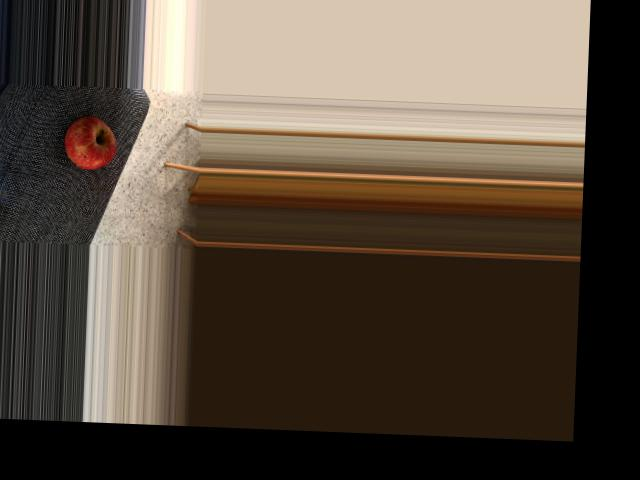apple: (59, 111, 120, 171)
